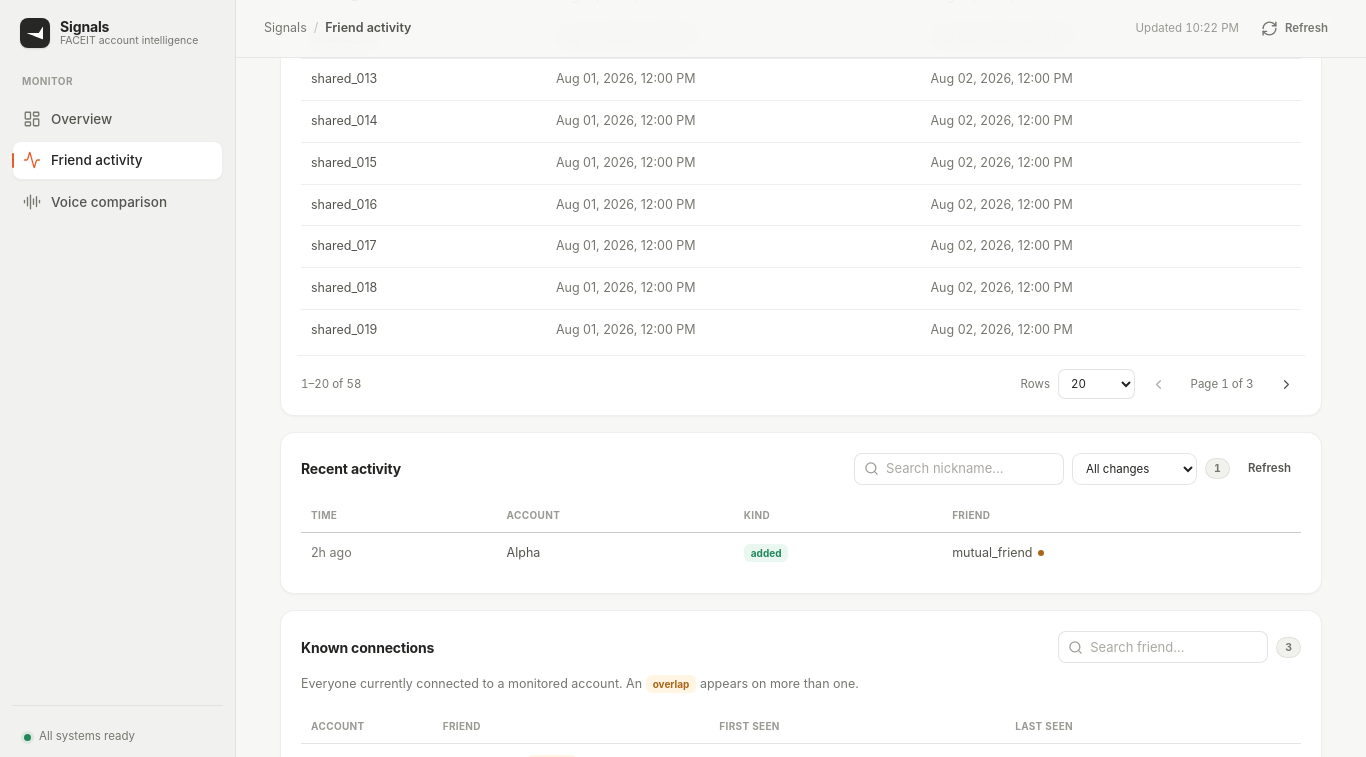
Test: shared friends pagination › shows 20 shared friends at a time and moves between pages
(page scrolled)
Expected: the text "shared_019" is shown, [301,309,546,351]
Expected: the text "1–20 of 58" is shown, [301,376,361,393]
Click the button named "Next shared friends page".
click(1286, 384)  # box [1271,369,1301,399]
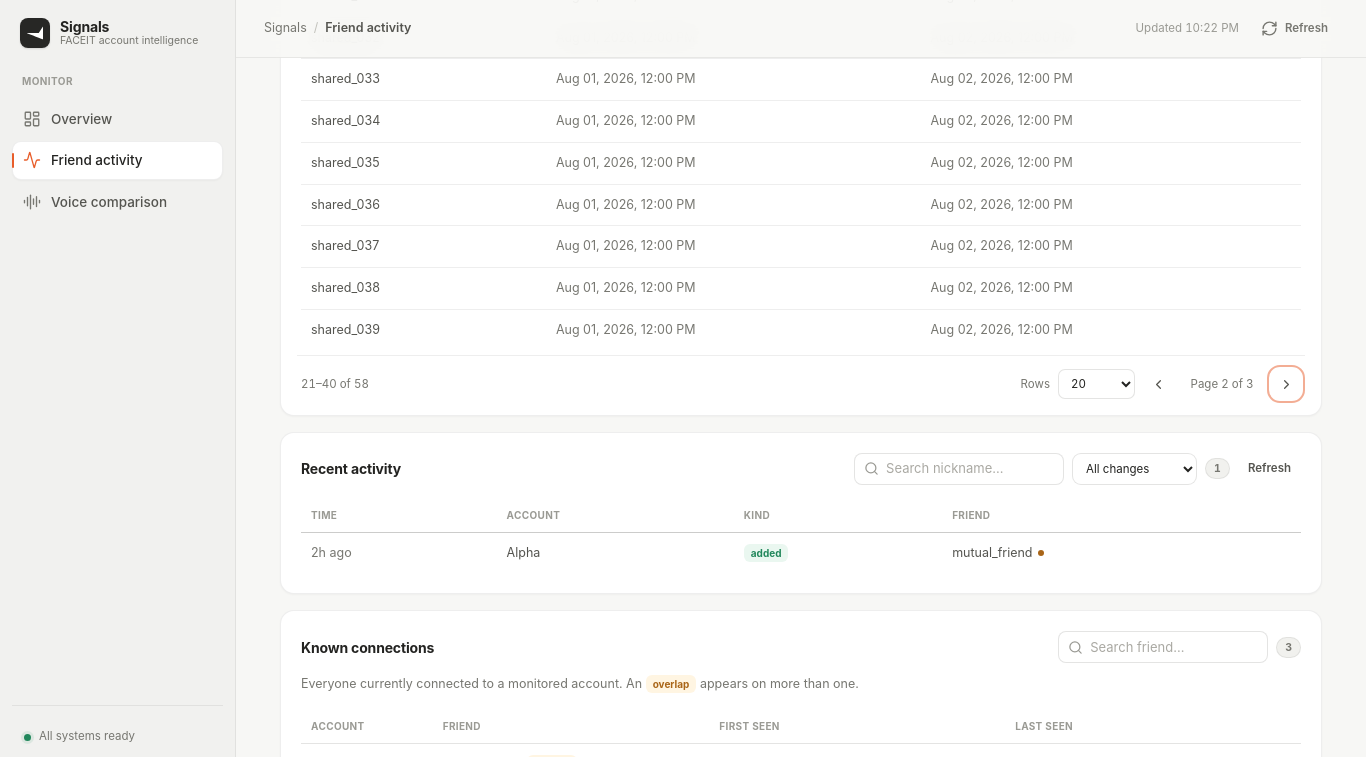
Result: the text "21–40 of 58" is shown at [301,376,369,393]
